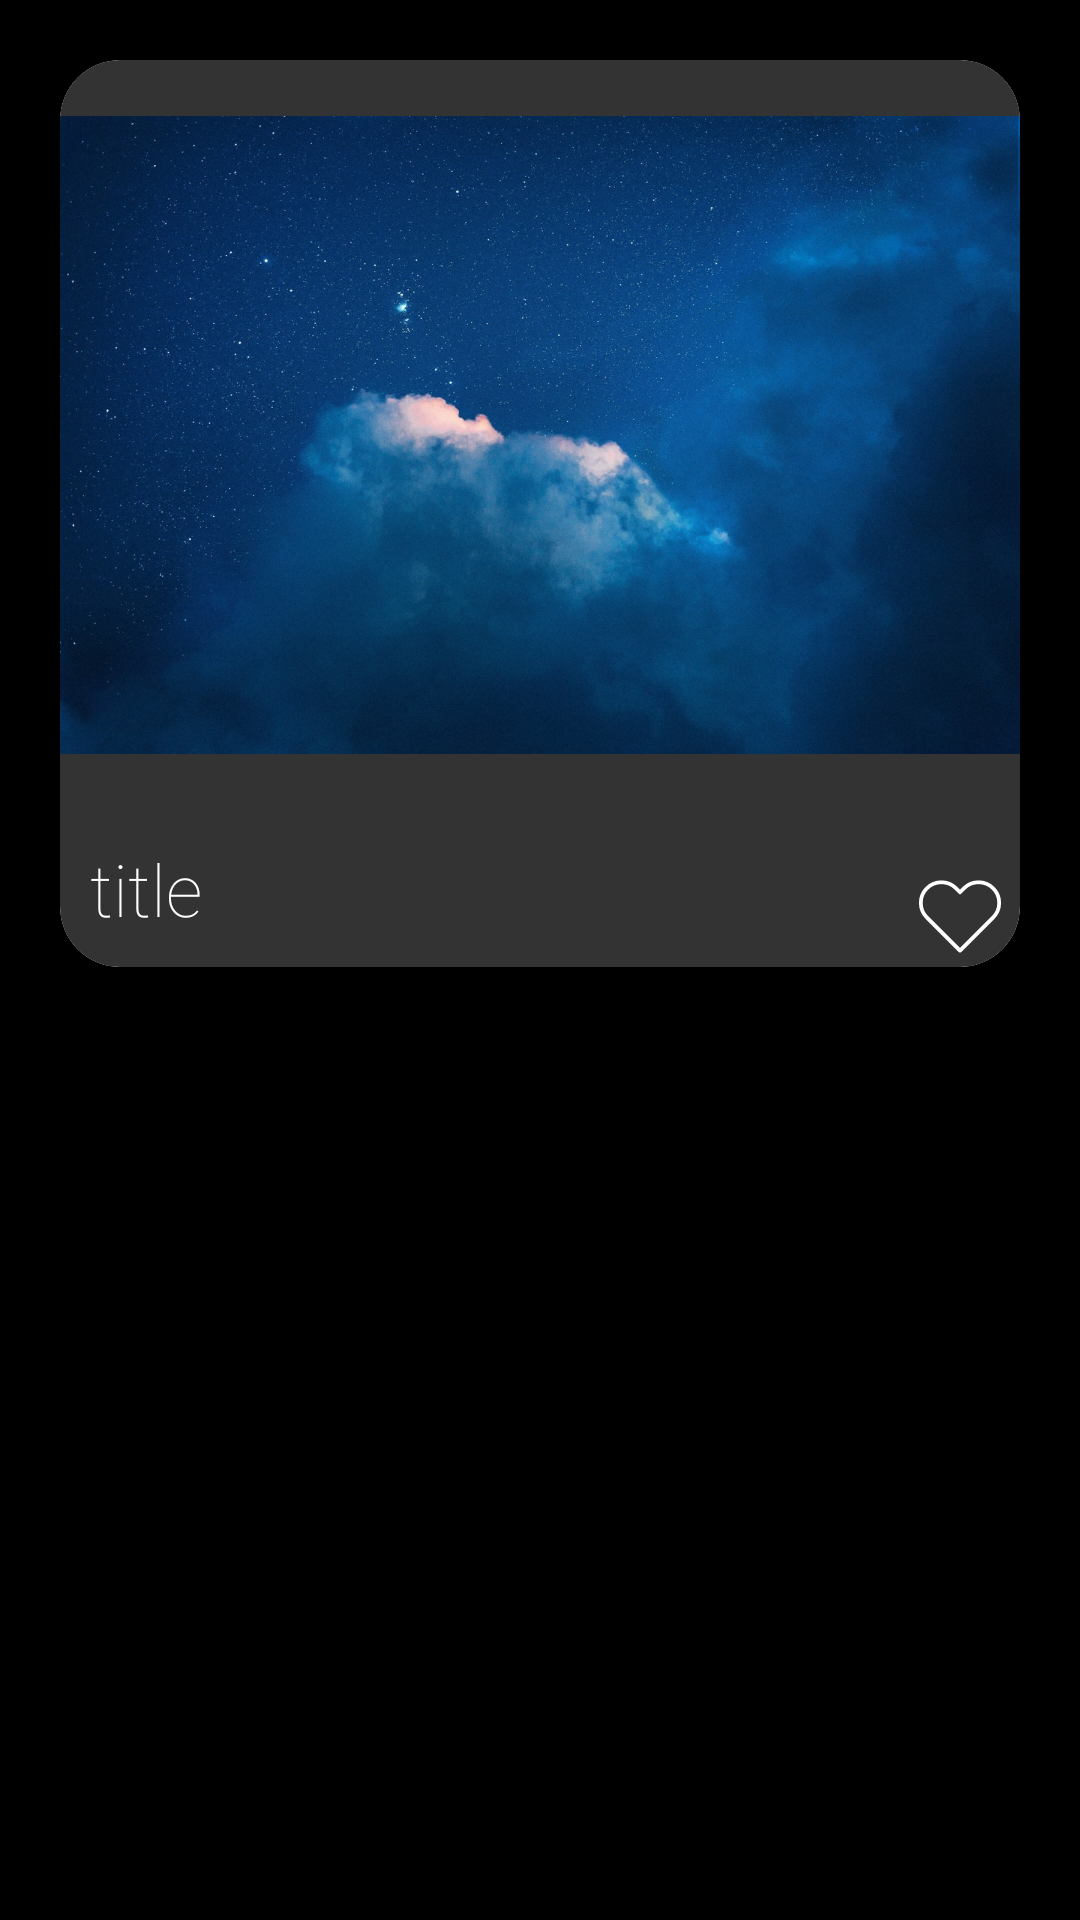

Icon click points for this 1080w x 1920h phone screenshot, format [x,y]:
heart: [960,916]
